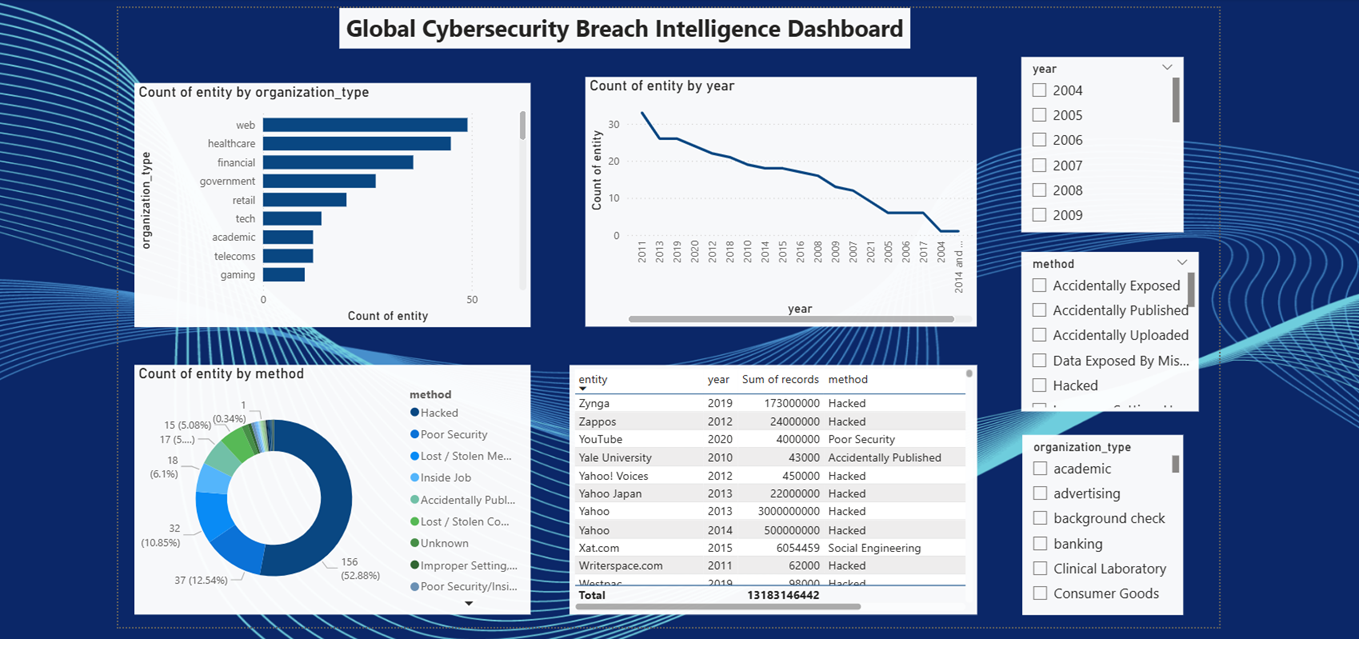

This screenshot's page, from the dashboard's own definition file:
{"tool":"powerbi","page":{"name":"Page 1","canvas":[1280,720],"ordinal":0},"visuals":[{"type":"textbox","box":[257.1,0,664.3,47.1],"z":0},{"type":"clusteredBarChart","fields":{"Category":["breaches_clean.organization_type"],"Y":["CountNonNull(breaches_clean.entity)"]},"box":[33.8,86.2,421.2,285],"z":2},{"type":"lineChart","fields":{"Category":["breaches_clean.year"],"Y":["CountNonNull(breaches_clean.entity)"]},"box":[543.8,80,440,291.2],"z":3},{"type":"donutChart","fields":{"Category":["breaches_clean.method"],"Y":["CountNonNull(breaches_clean.entity)"]},"box":[17.5,415,448.8,277.5],"z":4},{"type":"tableEx","fields":{"Values":["breaches_clean.entity","breaches_clean.year","Sum(breaches_clean.records)","breaches_clean.method"]},"box":[525,427.5,487.5,277.5],"z":5},{"type":"slicer","fields":{"Values":["breaches_clean.year"]},"box":[1050,57.5,188.8,203.8],"z":6},{"type":"slicer","fields":{"Values":["breaches_clean.method"]},"box":[1041.2,296.2,207.5,178.8],"z":7},{"type":"slicer","fields":{"Values":["breaches_clean.organization_type"]},"box":[1051.2,507.5,187.5,185],"z":8}]}

Visuals, with their boxes in screenshot pixels (x1, y1, x2, y2):
textbox: bbox(340, 4, 909, 44)
clusteredBarChart - breaches_clean.organization_type x CountNonNull(breaches_clean.entity): bbox(149, 77, 510, 321)
lineChart - breaches_clean.year x CountNonNull(breaches_clean.entity): bbox(586, 72, 962, 321)
donutChart - breaches_clean.method x CountNonNull(breaches_clean.entity): bbox(135, 359, 519, 596)
tableEx - breaches_clean.entity x breaches_clean.year: bbox(570, 369, 987, 607)
slicer - breaches_clean.year: bbox(1019, 53, 1180, 227)
slicer - breaches_clean.method: bbox(1011, 257, 1189, 410)
slicer - breaches_clean.organization_type: bbox(1020, 438, 1180, 596)
